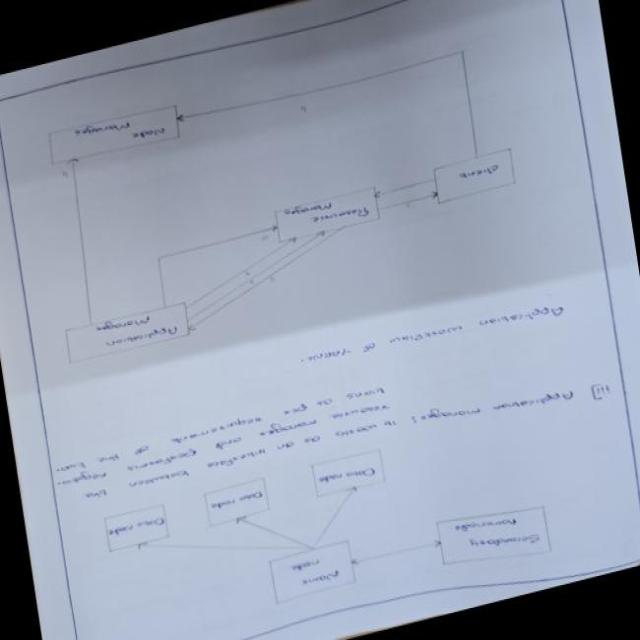Figure Detection - v3 Dataset Version2: (19, 5, 544, 391), (85, 399, 564, 640)
